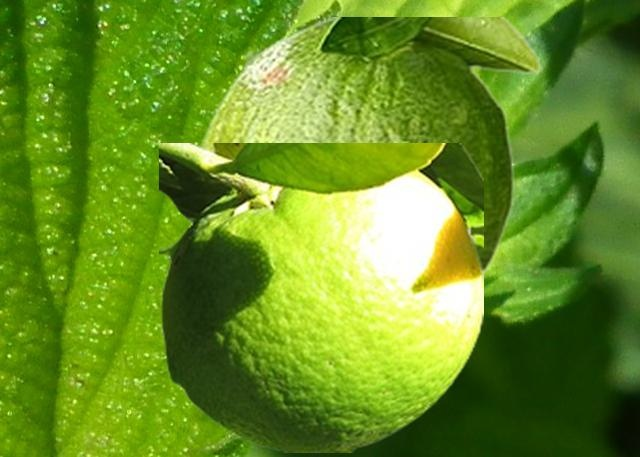dalandan: (159, 143, 482, 451), (197, 17, 541, 282)
